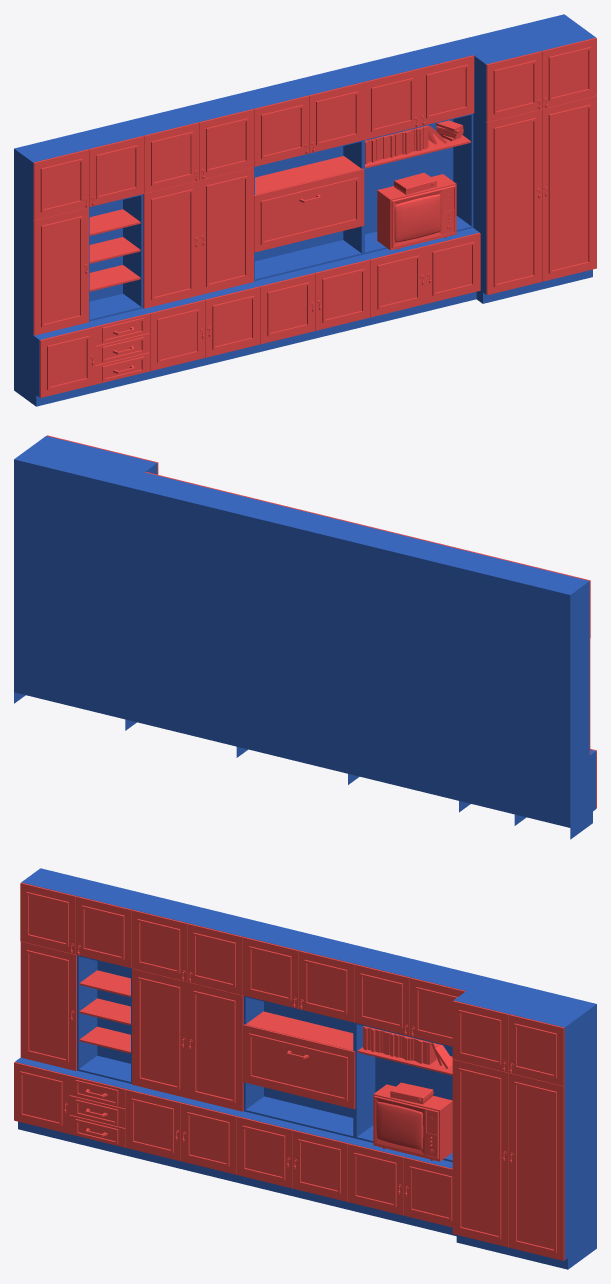
The model's file is EXP.fbx.
3 renders of one model, top to bottom at view 1: azimuth 30°, elevation 25°; view 2: azimuth 150°, elevation 25°; view 3: azimuth 330°, elevation 25°, orthographic.
Parts seen in each view (by area): view 1: Box075, Box053, Box058, Box054, Box069, Box070, Box045, Box063, Box042, Box047, Box116, Box106 (+42 smaller); view 2: Box041, Box063, Box045, Box067, Box042, Box072, Box044, Box062, Box066, Box061, Box043, Box047 (+5 smaller); view 3: Box053, Box075, Box058, Box069, Box070, Box054, Box041, Box042, Box063, Box045, Box047, Box106 (+39 smaller).
Part boxes in pixels (x1,y1,x2,y2): Box075: (486,109,541,295); Box053: (542,96,596,281); Box058: (33,207,88,335); Box054: (143,180,198,308); Box069: (254,168,364,252); Box070: (199,167,253,295); Box045: (363,113,473,254); Box063: (254,140,363,281); Box042: (454,14,595,121); Box047: (89,194,142,321); Box116: (39,326,95,397); Box106: (308,82,364,153); Box041: (14,517,125,719); Box063: (236,572,347,715); Box045: (125,545,236,688); Box067: (348,599,458,742); Box042: (14,436,157,544); Box072: (514,639,589,769); Box044: (125,472,255,571); Box062: (236,499,366,598); Box066: (348,526,477,625); Box061: (236,688,347,773); Box043: (125,661,236,746); Box047: (459,626,514,755); Box053: (508,1073,564,1260); Box075: (452,1059,508,1247); Box058: (20,941,76,1070); Box069: (243,1024,355,1109); Box070: (187,982,243,1111); Box054: (132,968,187,1097); Box041: (564,1062,596,1259); Box042: (454,977,596,1085); Box063: (244,996,354,1138); Box045: (355,1023,452,1162); Box047: (77,955,131,1083); Box106: (298,950,354,1022).
Size of the model in its own units: 5000 by 2100 by 539.
